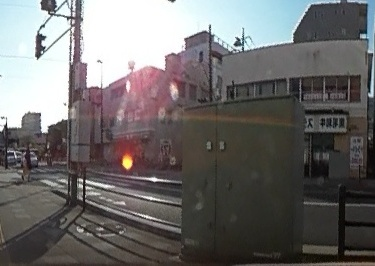person: (23, 143, 33, 179)
